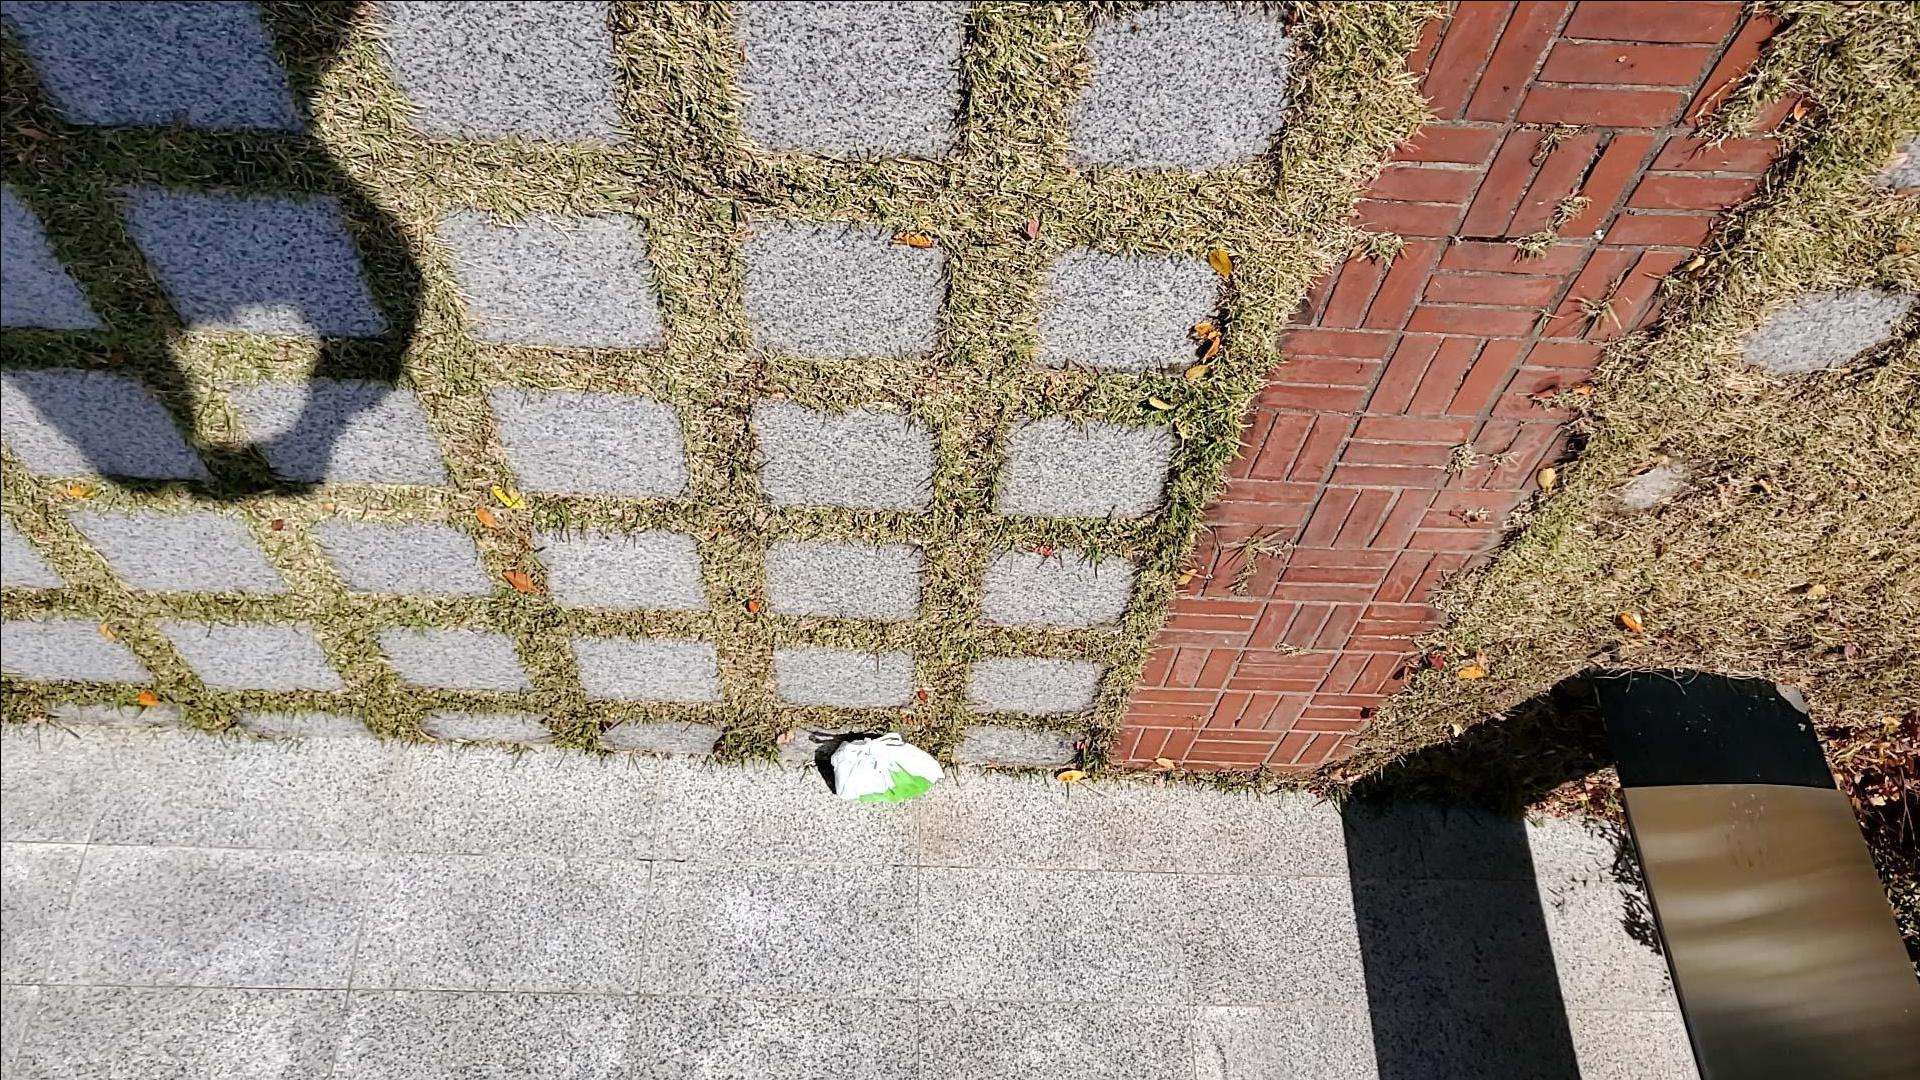white_bag: (806, 723, 957, 811)
